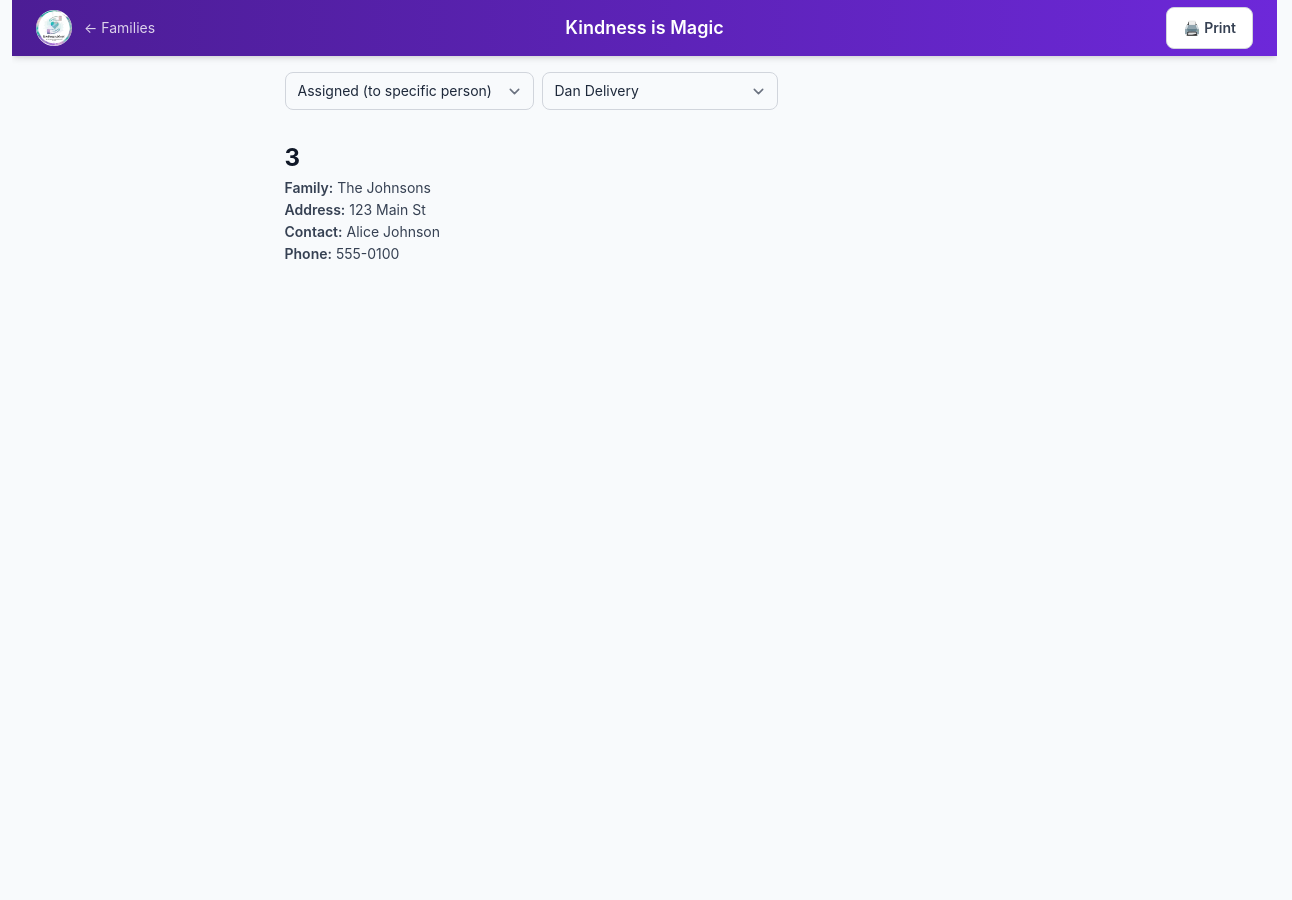
Test: AdminDeliverySlips › clearing the person select drops delivery_user_id and falls back to assigned
Select "Choose a delivery person…" in the dropdown named "Delivery person": (660, 91) [542,72,778,110]
(page scrolled)
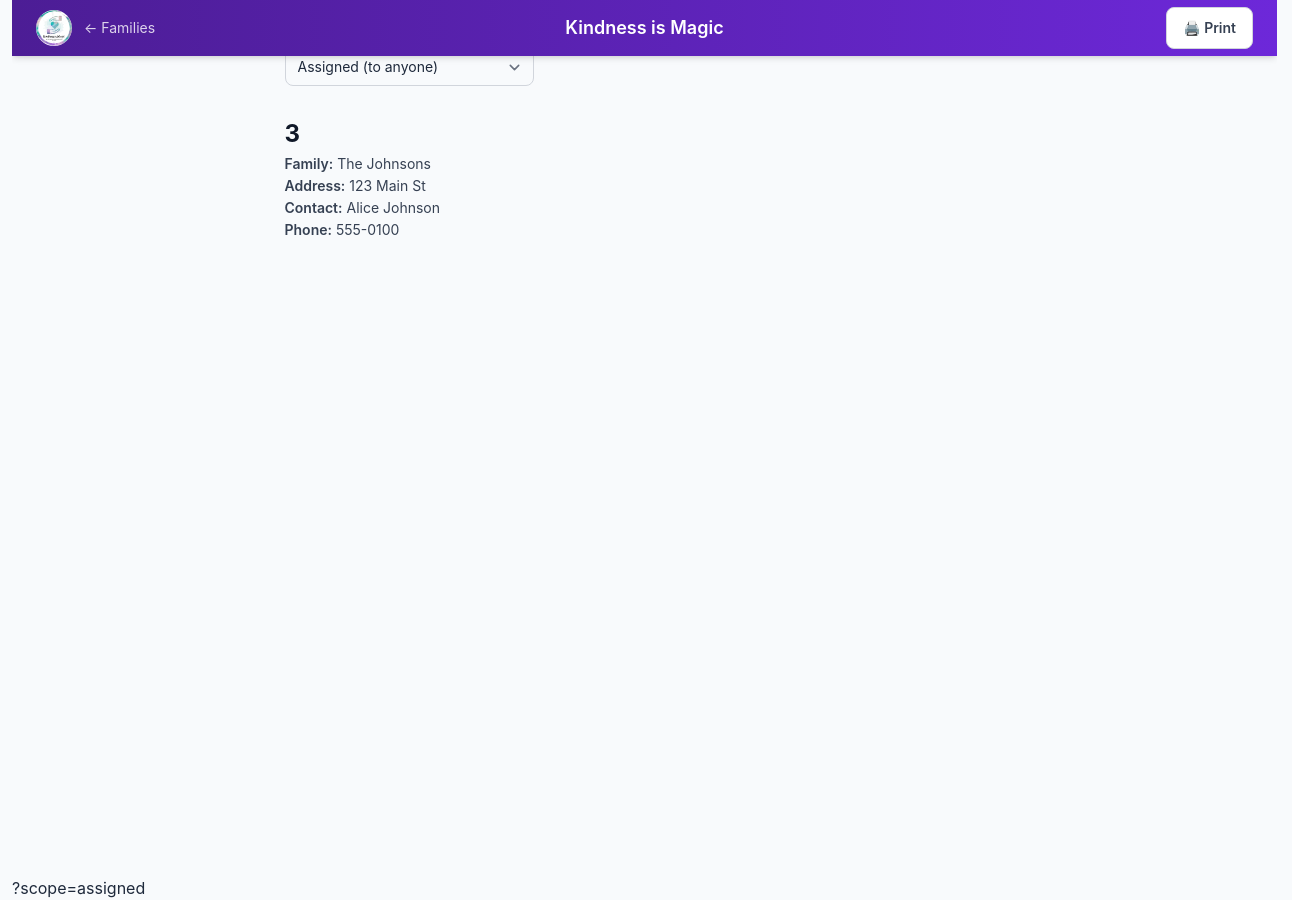
expect the text with test id "url-probe" reads "?scope=assigned": met, box [12,878,145,898]
